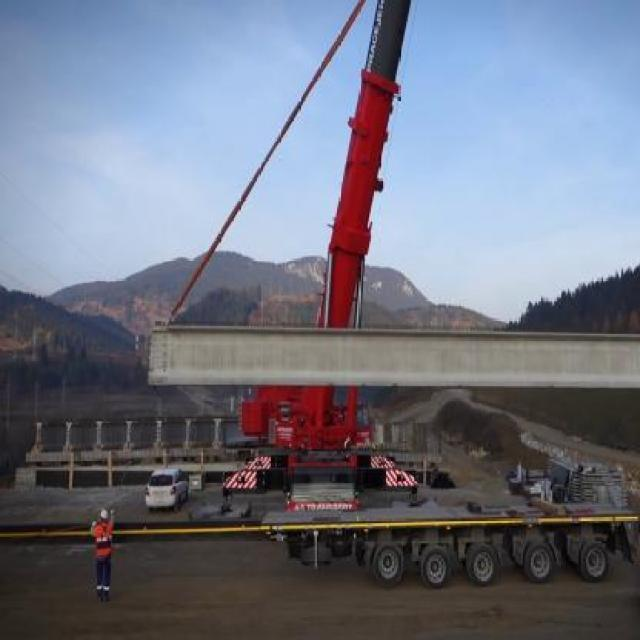Mobile Crane: (210, 0, 416, 500)
